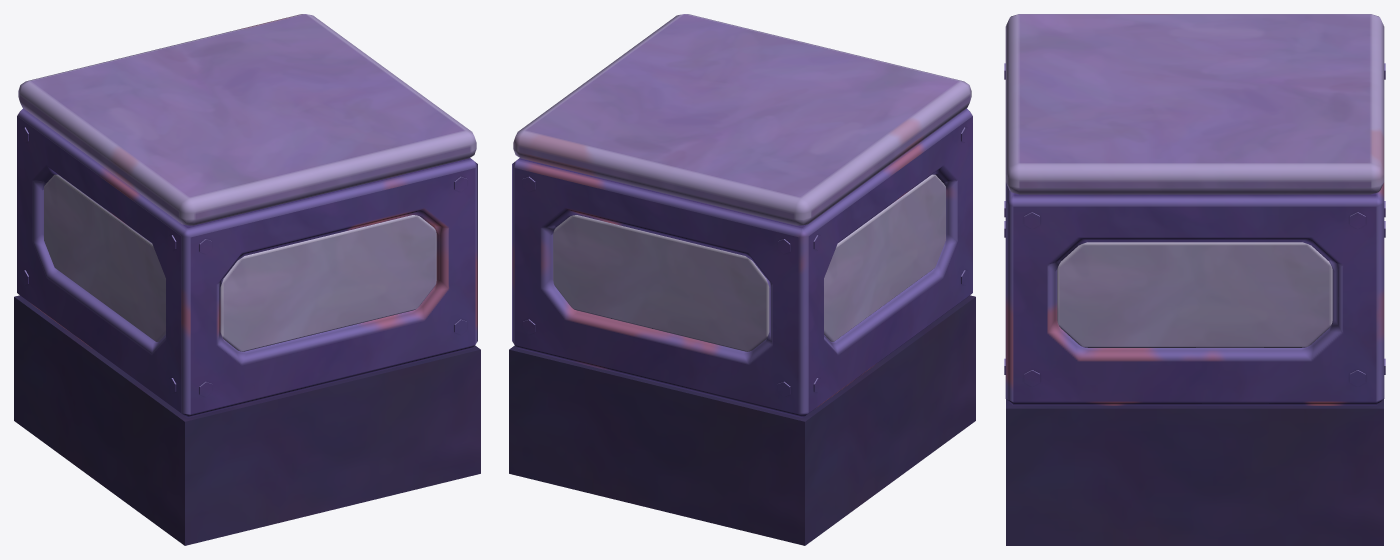
Rendered from bg_claude_block_cover.glb.
The picture shows the model from 3 angles, left to right: view 1: azimuth 30°, elevation 25°; view 2: azimuth 150°, elevation 25°; view 3: azimuth 270°, elevation 25°; orthographic projection. The views are drawn at different scales.
Parts seen in each view (by area): view 1: wall; view 2: wall; view 3: wall.
Part boxes in pixels (x1,y1,x2,y2): wall: [14, 14, 480, 545]; wall: [509, 14, 975, 545]; wall: [1004, 14, 1385, 545].
Bounding box in the file's own units: 1.01 × 1.1 × 1.01.
Materials: 1 (1 with a texture image).
